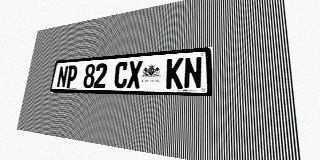2: (93, 63, 108, 88)
8: (82, 64, 96, 88)
C: (113, 61, 129, 88)
K: (166, 58, 183, 89)
N: (183, 56, 202, 89), (56, 66, 69, 88)
P: (65, 65, 78, 88)
X: (127, 60, 142, 88)
